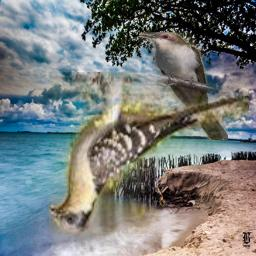Cuckoo: (49, 72, 249, 234), (139, 32, 228, 140)
